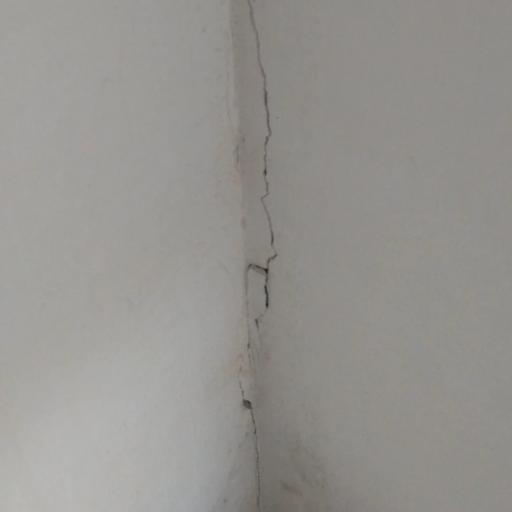major_crack: (227, 0, 284, 512)
